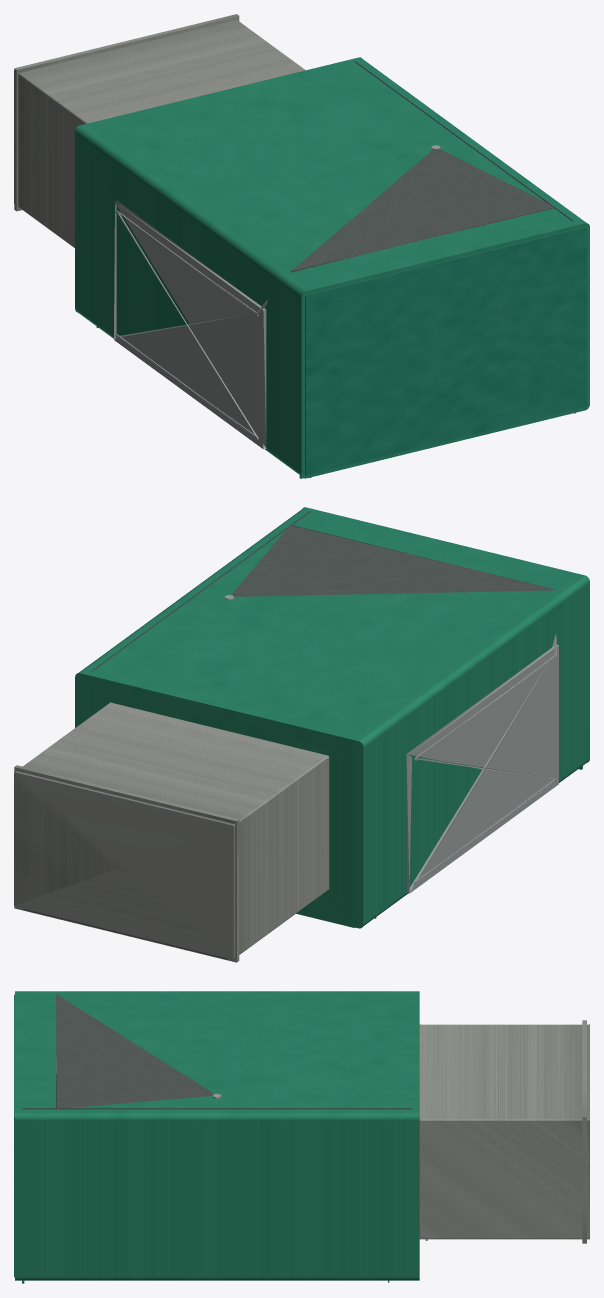
Rendered from BVB_legacy_ticket_machine.obj.
3 views of the same model, one above another, from view 1: azimuth 30°, elevation 25°; view 2: azimuth 150°, elevation 25°; view 3: azimuth 270°, elevation 25° (orthographic). The views are drawn at different scales.
Visible parts, largest first — view 1: C01_outer_green_powdercoated_cabinet, C02_top_green_weathered_sheet, B01_stainless_foundation_plinth, M01_left_side_map_mount_plate, R01_back_door_top_seam, B05_plinth_foot_base; view 2: C01_outer_green_powdercoated_cabinet, B01_stainless_foundation_plinth, M01_left_side_map_mount_plate, R01_back_door_top_seam, B05_plinth_foot_base; view 3: C01_outer_green_powdercoated_cabinet, B01_stainless_foundation_plinth, R01_back_door_top_seam, B05_plinth_foot_base, C05_rear_service_seam.
Part boxes in pixels (bbox=[...]): C01_outer_green_powdercoated_cabinet: bbox=[75, 57, 589, 478]; C02_top_green_weathered_sheet: bbox=[305, 227, 586, 474]; B01_stainless_foundation_plinth: bbox=[14, 20, 305, 247]; M01_left_side_map_mount_plate: bbox=[114, 200, 266, 448]; R01_back_door_top_seam: bbox=[290, 148, 553, 271]; B05_plinth_foot_base: bbox=[14, 14, 239, 211]; C01_outer_green_powdercoated_cabinet: bbox=[75, 507, 589, 928]; B01_stainless_foundation_plinth: bbox=[14, 702, 329, 959]; M01_left_side_map_mount_plate: bbox=[406, 644, 558, 893]; R01_back_door_top_seam: bbox=[231, 525, 555, 596]; B05_plinth_foot_base: bbox=[14, 765, 239, 962]; C01_outer_green_powdercoated_cabinet: bbox=[15, 991, 419, 1280]; B01_stainless_foundation_plinth: bbox=[419, 1024, 589, 1239]; R01_back_door_top_seam: bbox=[56, 993, 214, 1109]; B05_plinth_foot_base: bbox=[582, 1020, 586, 1243]; C05_rear_service_seam: bbox=[22, 1108, 411, 1109].
Size of the model in its own units: 0.8055 by 0.5275 by 1.53.
Materials: 14 (7 with a texture image).
